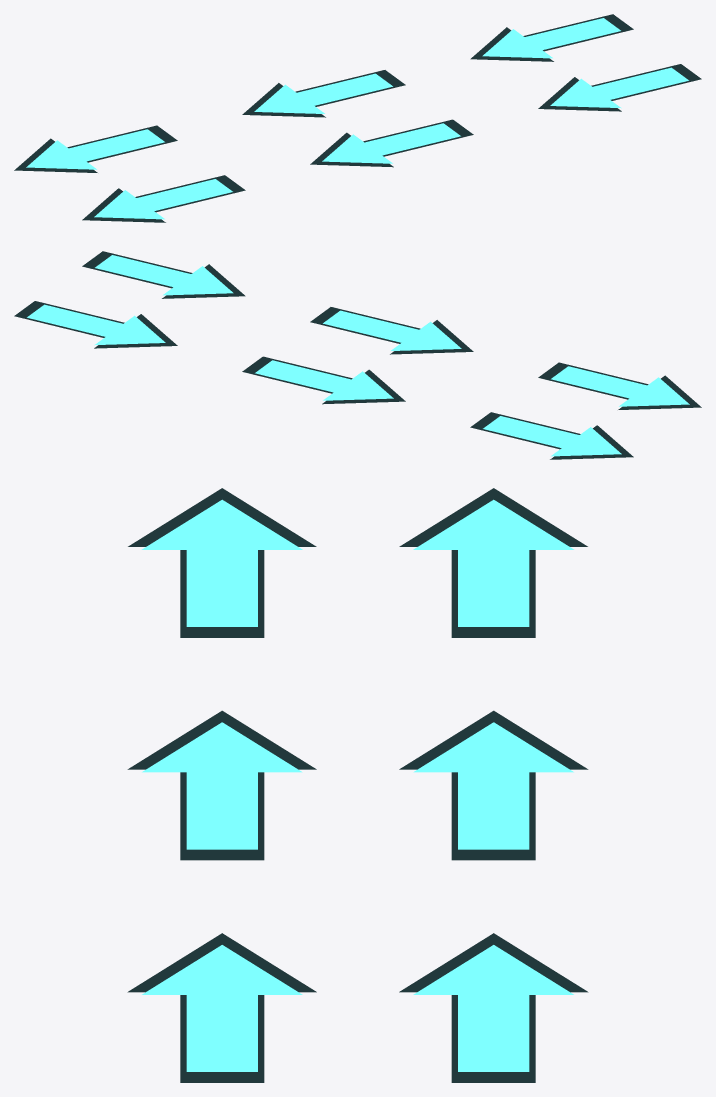
Rendered from wsc-prop-037-conveyor-direction.glb.
3 renders of one model, top to bottom at view 1: azimuth 30°, elevation 25°; view 2: azimuth 150°, elevation 25°; view 3: azimuth 270°, elevation 25°, orthographic. The views are drawn at different scales.
Parts seen in each view (by area): view 1: Arrow 1 inlay, Arrow 2 inlay, Arrow 5 inlay, Arrow 6 inlay, Arrow 4 inlay, Arrow 3 inlay, Arrow 6 keyline, Arrow 1 keyline, Arrow 3 keyline, Arrow 4 keyline, Arrow 5 keyline, Arrow 2 keyline; view 2: Arrow 2 inlay, Arrow 1 inlay, Arrow 5 inlay, Arrow 6 inlay, Arrow 3 inlay, Arrow 4 inlay, Arrow 5 keyline, Arrow 2 keyline, Arrow 3 keyline, Arrow 4 keyline, Arrow 6 keyline, Arrow 1 keyline; view 3: Arrow 3 inlay, Arrow 4 inlay, Arrow 1 inlay, Arrow 2 inlay, Arrow 5 inlay, Arrow 6 inlay, Arrow 3 keyline, Arrow 4 keyline, Arrow 5 keyline, Arrow 6 keyline, Arrow 1 keyline, Arrow 2 keyline.
Part boxes in pixels (x1,y1,x2,y2): Arrow 1 inlay: [94, 179, 232, 219]; Arrow 2 inlay: [26, 129, 164, 169]; Arrow 5 inlay: [550, 67, 688, 108]; Arrow 6 inlay: [482, 18, 620, 58]; Arrow 4 inlay: [254, 73, 392, 113]; Arrow 3 inlay: [322, 123, 460, 163]; Arrow 6 keyline: [470, 14, 633, 61]; Arrow 1 keyline: [82, 175, 245, 222]; Arrow 3 keyline: [310, 119, 473, 167]; Arrow 4 keyline: [242, 70, 405, 117]; Arrow 5 keyline: [538, 64, 701, 111]; Arrow 2 keyline: [14, 125, 177, 172]; Arrow 2 inlay: [483, 416, 621, 456]; Arrow 1 inlay: [551, 366, 689, 406]; Arrow 5 inlay: [95, 255, 233, 295]; Arrow 6 inlay: [27, 304, 165, 345]; Arrow 3 inlay: [323, 310, 461, 350]; Arrow 4 inlay: [255, 360, 393, 400]; Arrow 5 keyline: [82, 251, 245, 298]; Arrow 2 keyline: [470, 412, 633, 459]; Arrow 3 keyline: [310, 307, 473, 354]; Arrow 4 keyline: [242, 356, 405, 404]; Arrow 6 keyline: [14, 301, 177, 348]; Arrow 1 keyline: [538, 362, 701, 409]; Arrow 3 inlay: [142, 722, 302, 849]; Arrow 4 inlay: [413, 722, 573, 849]; Arrow 1 inlay: [141, 499, 302, 626]; Arrow 2 inlay: [413, 499, 574, 626]; Arrow 5 inlay: [142, 945, 302, 1071]; Arrow 6 inlay: [413, 945, 573, 1071]; Arrow 3 keyline: [127, 710, 316, 860]; Arrow 4 keyline: [399, 710, 588, 860]; Arrow 5 keyline: [127, 933, 316, 1082]; Arrow 6 keyline: [399, 933, 588, 1082]; Arrow 1 keyline: [128, 488, 316, 637]; Arrow 2 keyline: [399, 488, 587, 637].
Size of the model in its own units: 3.42 by 0.0004 by 1.12.
